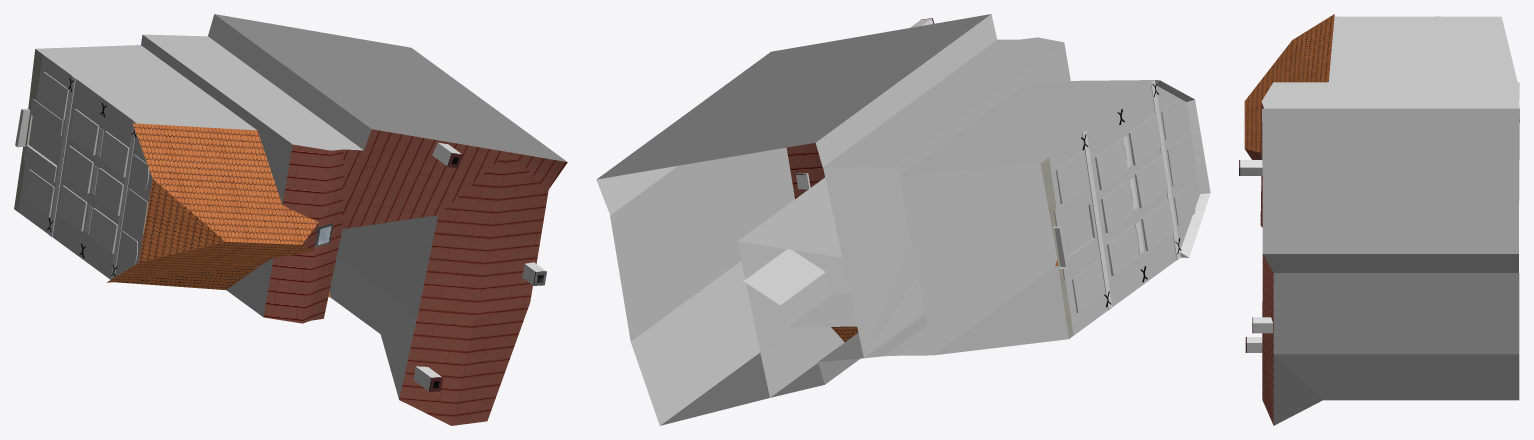
File: Kullassepa_5.obj
3 renders of one model, left to right at view 1: azimuth 30°, elevation 25°; view 2: azimuth 150°, elevation 25°; view 3: azimuth 270°, elevation 25°, orthographic. The views are drawn at different scales.
Parts seen in each view (by area): view 1: Kullassepa_5; view 2: Kullassepa_5; view 3: Kullassepa_5.
Part boxes in pixels (x1,y1,x2,y2): Kullassepa_5: (14, 14, 567, 425); Kullassepa_5: (596, 14, 1210, 425); Kullassepa_5: (1239, 14, 1519, 425).
Size of the model in its own units: 23.59 by 18.77 by 16.76.
